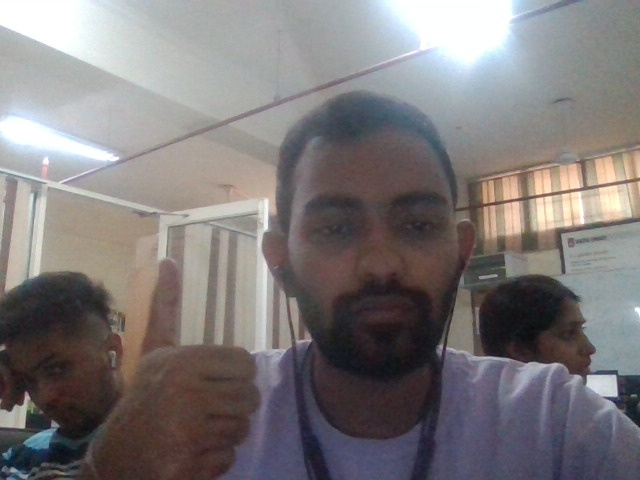Yes: (91, 256, 261, 480)
